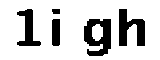1: (14, 6, 46, 51)
g: (82, 11, 112, 60)
h: (117, 4, 150, 53)
i: (50, 7, 69, 52)
